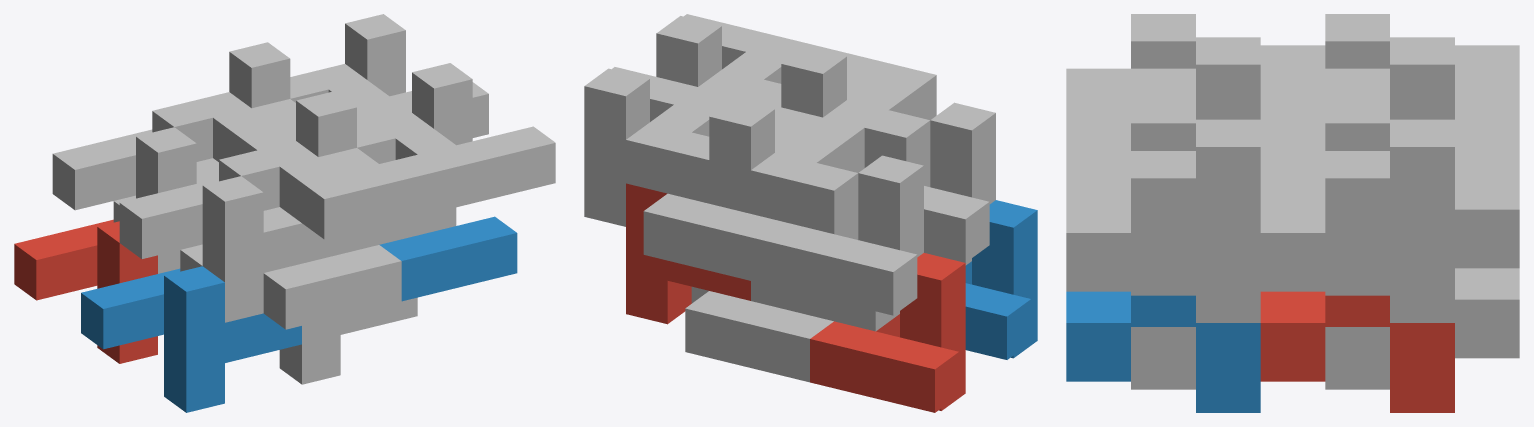
Rendered from tiling.obj.
3 renders of one model, left to right at view 1: azimuth 30°, elevation 25°; view 2: azimuth 150°, elevation 25°; view 3: azimuth 270°, elevation 25°, orthographic. The views are drawn at different scales.
Parts seen in each view (by area): view 1: copy_2_domain_4, copy_1_domain_2, copy_1_domain_4, copy_2_domain_8, copy_1_domain_3, copy_2_domain_3, copy_2_domain_2, copy_1_domain_1, copy_2_domain_7, copy_2_domain_6, copy_1_domain_6, copy_1_domain_8 (+1 smaller); view 2: copy_2_domain_3, copy_2_domain_7, copy_1_domain_3, copy_1_domain_1, copy_2_domain_4, copy_1_domain_4, copy_1_domain_2, copy_2_domain_8, copy_1_domain_7, copy_1_domain_5, copy_2_domain_5, copy_2_domain_1; view 3: copy_2_domain_7, copy_2_domain_8, copy_1_domain_7, copy_2_domain_5, copy_2_domain_6, copy_2_domain_3, copy_2_domain_4, copy_1_domain_5, copy_1_domain_3, copy_1_domain_8, copy_1_domain_4, copy_1_domain_6.
Part boxes in pixels (box(x1,y1,x2,y2)): copy_2_domain_4: box(219, 91, 439, 239); copy_1_domain_2: box(81, 266, 301, 412); copy_1_domain_4: box(119, 176, 340, 322); copy_2_domain_8: box(357, 63, 555, 211); copy_1_domain_3: box(52, 127, 218, 273); copy_2_domain_3: box(152, 42, 372, 161); copy_2_domain_2: box(180, 244, 401, 329); copy_1_domain_1: box(14, 219, 157, 363); copy_2_domain_7: box(290, 14, 488, 137); copy_2_domain_6: box(379, 216, 517, 301); copy_1_domain_6: box(279, 297, 417, 384); copy_1_domain_8: box(318, 148, 456, 253); copy_2_domain_3: box(709, 97, 864, 233); copy_2_domain_7: box(584, 67, 739, 226); copy_1_domain_3: box(768, 155, 923, 315); copy_1_domain_1: box(810, 253, 965, 412); copy_2_domain_4: box(781, 44, 936, 167); copy_1_domain_4: box(924, 102, 995, 262); copy_1_domain_2: box(965, 200, 1037, 359); copy_2_domain_8: box(656, 14, 811, 107); copy_1_domain_7: box(643, 129, 798, 284); copy_1_domain_5: box(685, 286, 833, 382); copy_2_domain_5: box(626, 183, 750, 324); copy_2_domain_1: box(751, 281, 899, 331); copy_2_domain_7: box(1260, 119, 1454, 322); copy_2_domain_8: box(1066, 119, 1260, 322); copy_1_domain_7: box(1325, 96, 1519, 295); copy_2_domain_5: box(1260, 291, 1454, 412); copy_2_domain_6: box(1066, 291, 1260, 412); copy_2_domain_3: box(1260, 37, 1454, 150); copy_2_domain_4: box(1066, 37, 1260, 150); copy_1_domain_5: box(1325, 268, 1519, 389); copy_1_domain_3: box(1325, 14, 1519, 127); copy_1_domain_8: box(1131, 96, 1195, 295); copy_1_domain_4: box(1131, 14, 1325, 68); copy_1_domain_6: box(1131, 327, 1195, 389).
Size of the model in its own units: 10 by 6 by 7.
